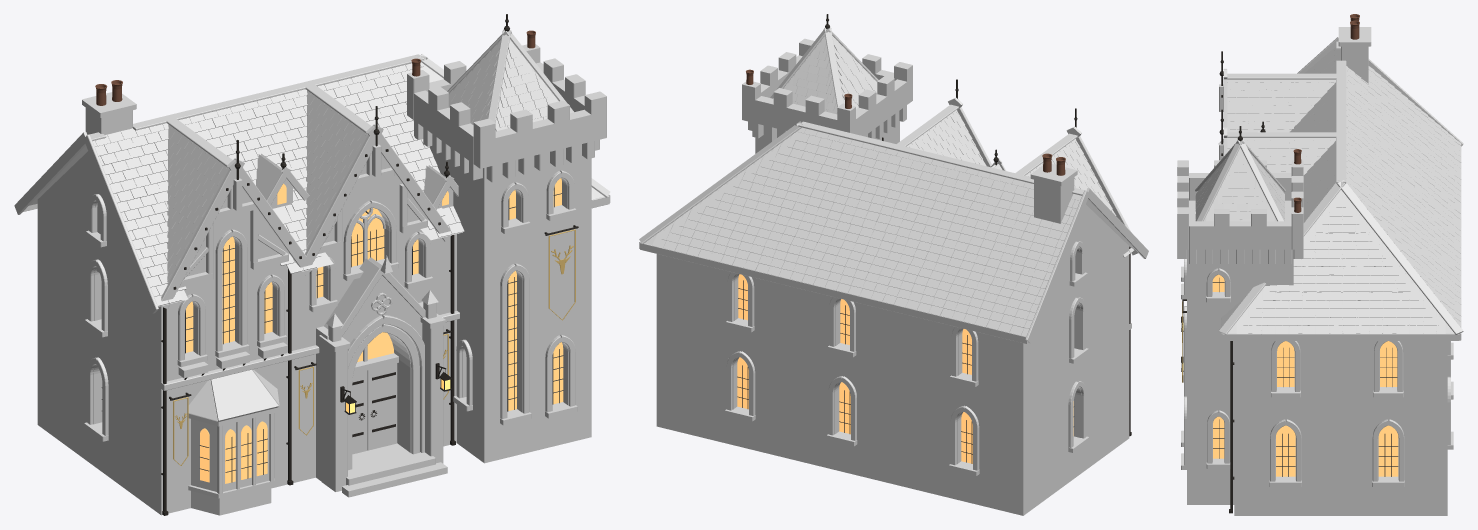
The model's file is SilverbrookNorthridgeHouse5.glb.
3 views of the same model, side by side, from view 1: azimuth 30°, elevation 25°; view 2: azimuth 150°, elevation 25°; view 3: azimuth 270°, elevation 25° (orthographic). The views are drawn at different scales.
Visible parts, largest first — view 1: SM_SBNorthridgeHouse5_Masonry, SM_SBNorthridgeHouse5_Roof, SM_SBNorthridgeHouse5_Details, SM_SBNorthridgeHouse5_Timber, SM_SBNorthridgeHouse5_Door2, SM_SBNorthridgeHouse5_Door1; view 2: SM_SBNorthridgeHouse5_Masonry, SM_SBNorthridgeHouse5_Roof, SM_SBNorthridgeHouse5_Timber, SM_SBNorthridgeHouse5_Details; view 3: SM_SBNorthridgeHouse5_Masonry, SM_SBNorthridgeHouse5_Roof, SM_SBNorthridgeHouse5_Details, SM_SBNorthridgeHouse5_Timber.
Part boxes in pixels (bbox=[...]): SM_SBNorthridgeHouse5_Masonry: bbox=[37, 44, 606, 515]; SM_SBNorthridgeHouse5_Roof: bbox=[29, 29, 610, 421]; SM_SBNorthridgeHouse5_Details: bbox=[95, 14, 578, 515]; SM_SBNorthridgeHouse5_Timber: bbox=[14, 124, 610, 493]; SM_SBNorthridgeHouse5_Door2: bbox=[367, 363, 397, 450]; SM_SBNorthridgeHouse5_Door1: bbox=[352, 370, 367, 454]; SM_SBNorthridgeHouse5_Masonry: bbox=[656, 38, 1129, 515]; SM_SBNorthridgeHouse5_Roof: bbox=[639, 27, 1134, 336]; SM_SBNorthridgeHouse5_Timber: bbox=[639, 97, 1148, 343]; SM_SBNorthridgeHouse5_Details: bbox=[737, 14, 1131, 463]; SM_SBNorthridgeHouse5_Masonry: bbox=[1177, 27, 1453, 515]; SM_SBNorthridgeHouse5_Roof: bbox=[1195, 41, 1463, 334]; SM_SBNorthridgeHouse5_Details: bbox=[1181, 14, 1398, 513]; SM_SBNorthridgeHouse5_Timber: bbox=[1218, 37, 1463, 340].
Size of the model in its own units: 11.55 by 9.95 by 7.25.
